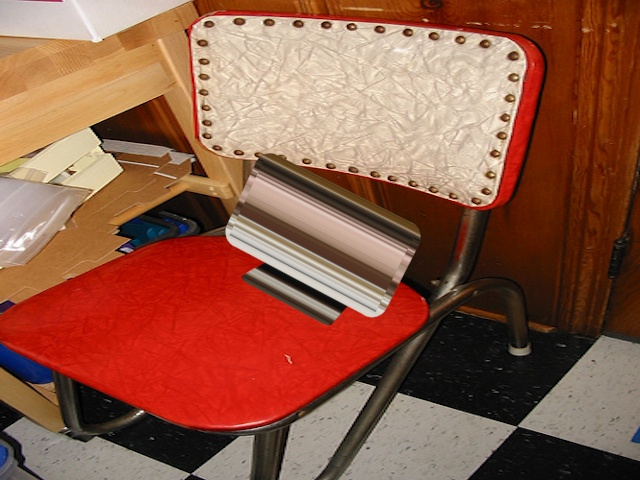monitor: (224, 144, 432, 336)
